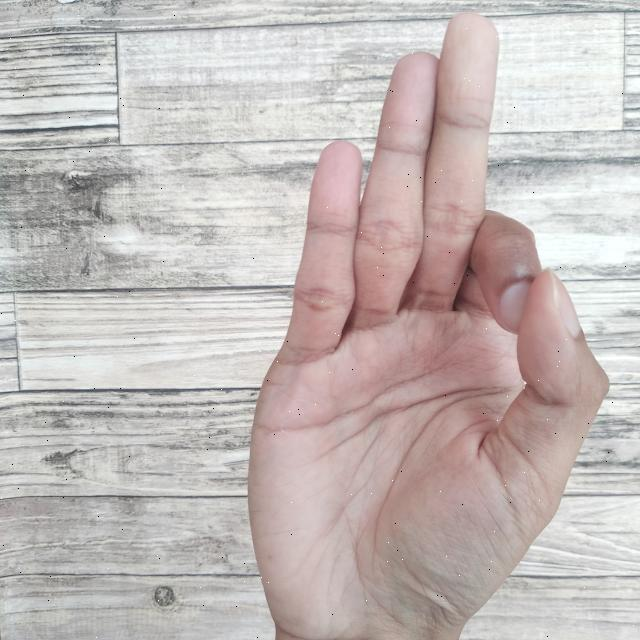F: (247, 10, 610, 640)
